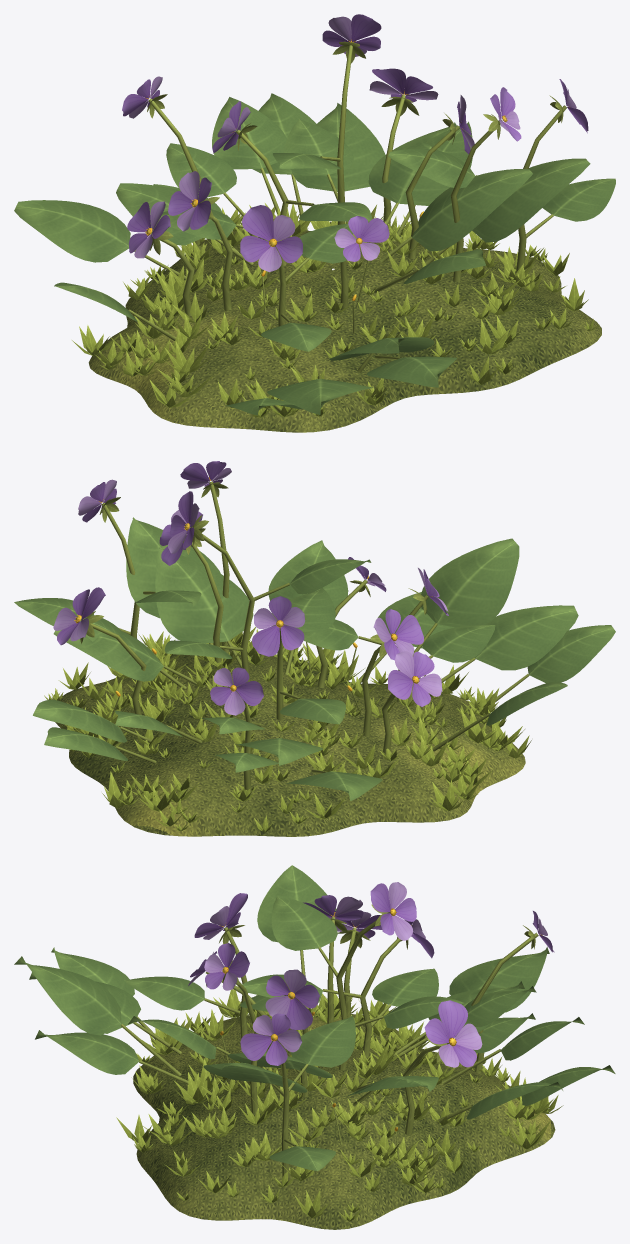
The model's file is SM_Valley_VioletTussock.fbx.
3 renders of one model, top to bottom at view 1: azimuth 30°, elevation 25°; view 2: azimuth 150°, elevation 25°; view 3: azimuth 270°, elevation 25°, orthographic. The views are drawn at different scales.
Visible parts, largest first — view 1: SM_Valley_VioletTussock; view 2: SM_Valley_VioletTussock; view 3: SM_Valley_VioletTussock.
Boxes of the visible parts, x1,y1,x2,y2 form: SM_Valley_VioletTussock: [14, 14, 615, 432]; SM_Valley_VioletTussock: [14, 461, 615, 836]; SM_Valley_VioletTussock: [14, 865, 615, 1229].
Bounding box in the file's own units: 0.636 × 0.6079 × 0.2977.
2 materials, 2 textured.
